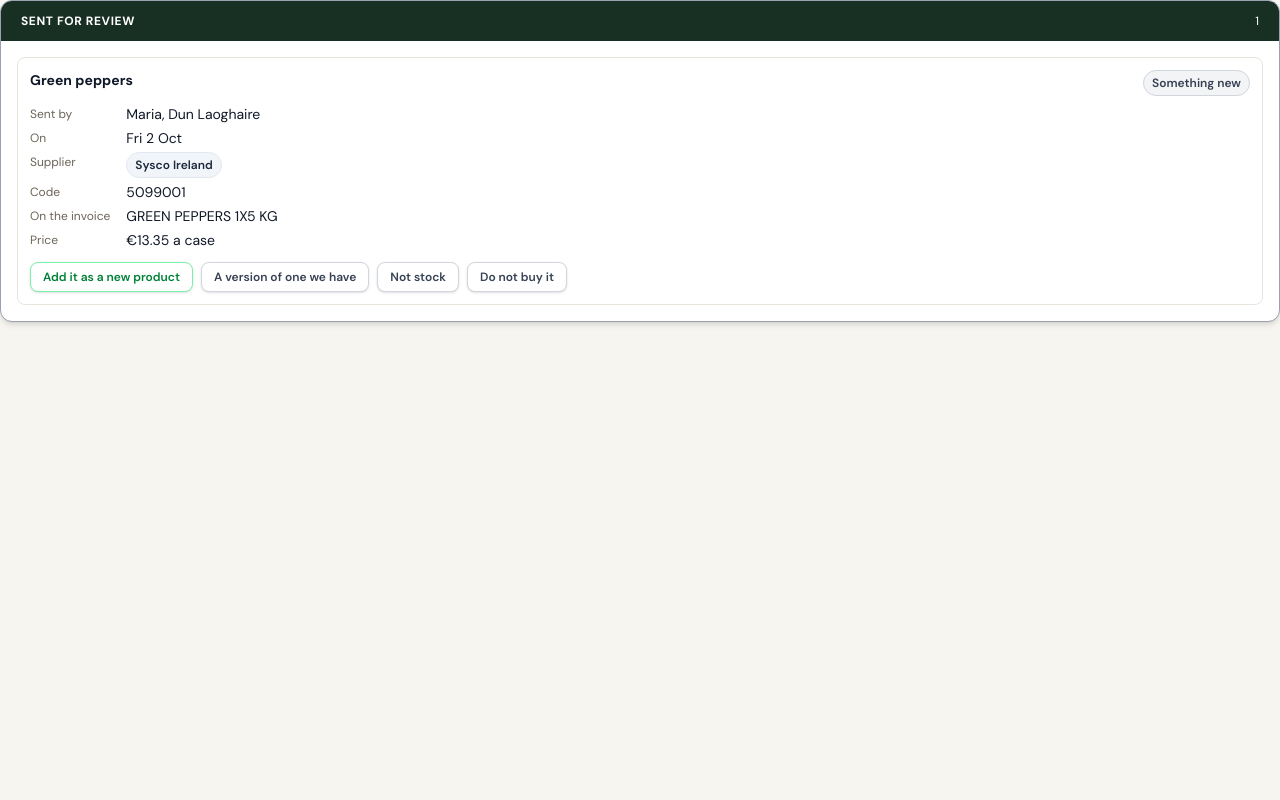
Test: A version of one we have › puts the version that goes by the code first, through one of its other codes
Click the button "A version of one we have": (285, 277) [201,262,369,292]
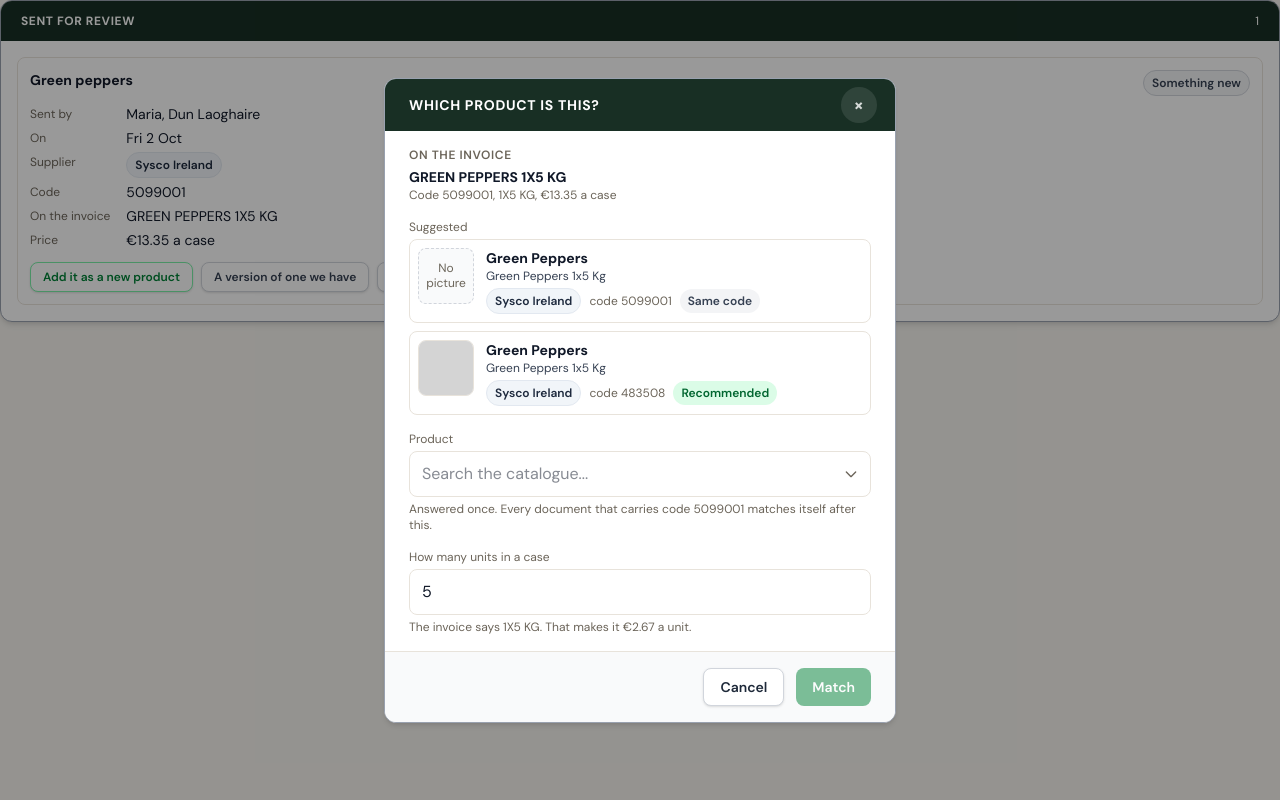
expect the button that starts with "No picture" shows "code 5099001": met, box [409,238,871,322]
expect the text "Same code" is shown: met, box [680,288,760,312]
